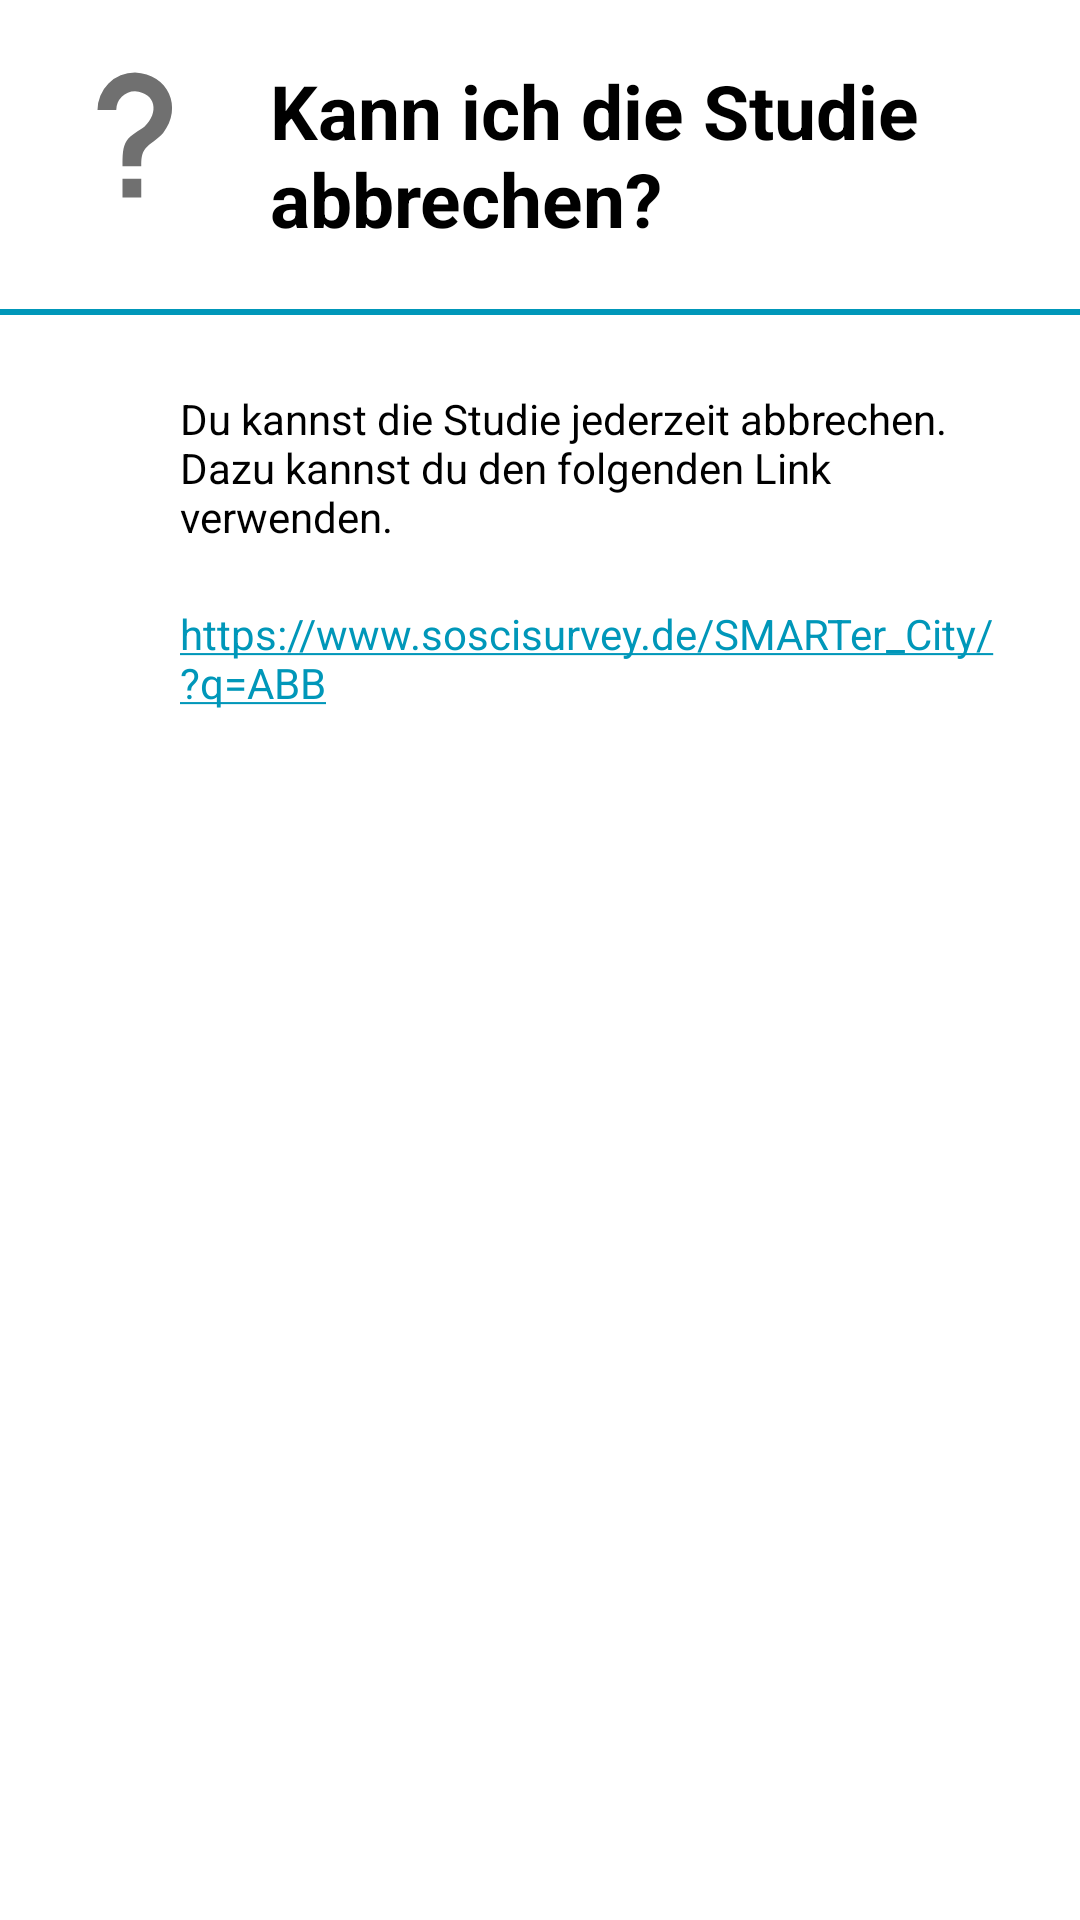

Icon bounding boxes for this 1080w x 1920h phone screenshot, format (x1, y1, x2, y2):
help: (97, 72, 172, 198)
